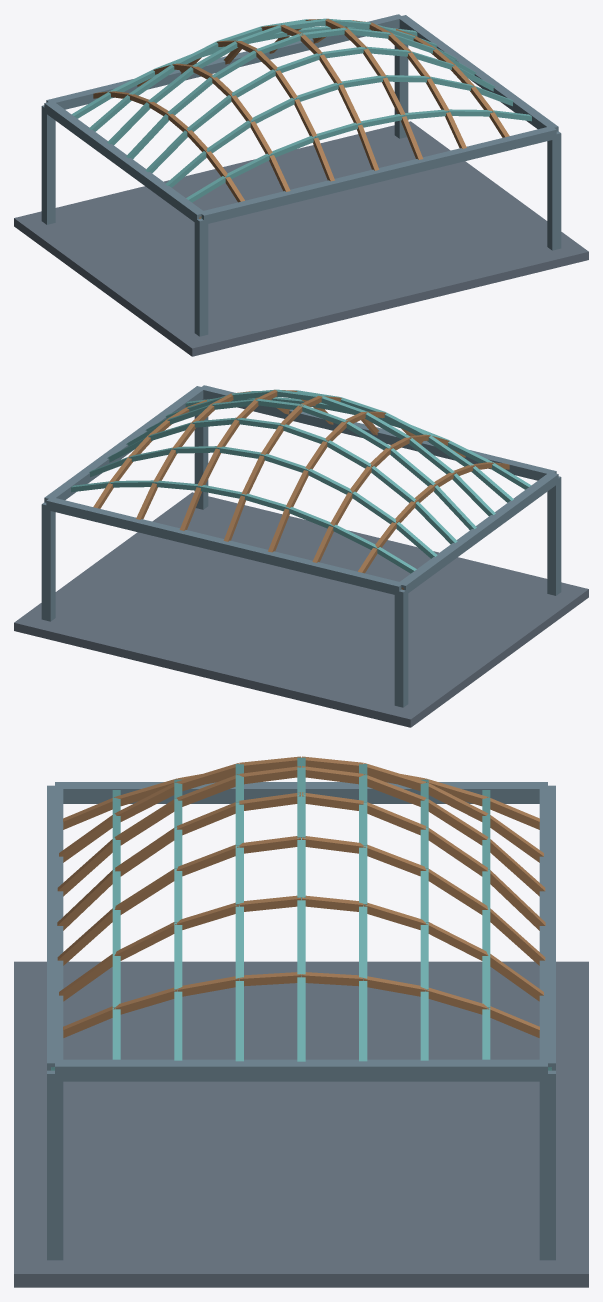
The model's file is sample.glb.
3 renders of one model, top to bottom at view 1: azimuth 30°, elevation 25°; view 2: azimuth 150°, elevation 25°; view 3: azimuth 270°, elevation 25°, orthographic. The views are drawn at different scales.
Visible parts, largest first — view 1: DISPLAY_plinth, edge_support, edge_support.003, edge_support.002, edge_support.001, corner_column, corner_column.001, corner_column.003, corner_column.002; view 2: DISPLAY_plinth, edge_support.002, edge_support.003, edge_support, edge_support.001, corner_column.003, corner_column.002, corner_column, corner_column.001; view 3: DISPLAY_plinth, edge_support.001, edge_support.003, edge_support, edge_support.002, corner_column.002, corner_column.001, lath_u_4_00, lath_u_4_07, lath_u_3_00, lath_u_3_07, lath_u_4_01 (+28 smaller).
Boxes of the visible parts, x1=… form: DISPLAY_plinth: x1=14, y1=121, x2=588, y2=356; edge_support: x1=199, y1=127, x2=556, y2=224; edge_support.003: x1=44, y1=101, x2=202, y2=223; edge_support.002: x1=46, y1=14, x2=403, y2=109; edge_support.001: x1=397, y1=15, x2=558, y2=131; corner_column: x1=194, y1=218, x2=208, y2=336; corner_column.001: x1=547, y1=131, x2=561, y2=250; corner_column.003: x1=41, y1=105, x2=55, y2=224; corner_column.002: x1=394, y1=28, x2=408, y2=138; DISPLAY_plinth: x1=14, y1=492, x2=588, y2=727; edge_support.002: x1=46, y1=498, x2=401, y2=595; edge_support.003: x1=397, y1=473, x2=558, y2=594; edge_support: x1=199, y1=385, x2=556, y2=480; edge_support.001: x1=44, y1=386, x2=203, y2=502; corner_column.003: x1=394, y1=589, x2=408, y2=707; corner_column.002: x1=41, y1=502, x2=55, y2=621; corner_column: x1=547, y1=476, x2=561, y2=595; corner_column.001: x1=194, y1=399, x2=208, y2=509; DISPLAY_plinth: x1=14, y1=961, x2=588, y2=1287; edge_support.001: x1=55, y1=1059, x2=547, y2=1081; edge_support.003: x1=55, y1=782, x2=547, y2=803; edge_support: x1=47, y1=785, x2=63, y2=1070; edge_support.002: x1=539, y1=785, x2=555, y2=1070; corner_column.002: x1=539, y1=1070, x2=555, y2=1260; corner_column.001: x1=47, y1=1070, x2=63, y2=1260; lath_u_4_00: x1=57, y1=870, x2=112, y2=930; lath_u_4_07: x1=490, y1=870, x2=545, y2=930; lath_u_3_00: x1=57, y1=839, x2=112, y2=896; lath_u_3_07: x1=490, y1=839, x2=545, y2=896; lath_u_4_01: x1=115, y1=828, x2=174, y2=876.
Size of the model in its own units: 9 by 4.53 by 7.
